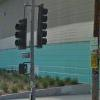Traffic light: (11, 3, 55, 59)
